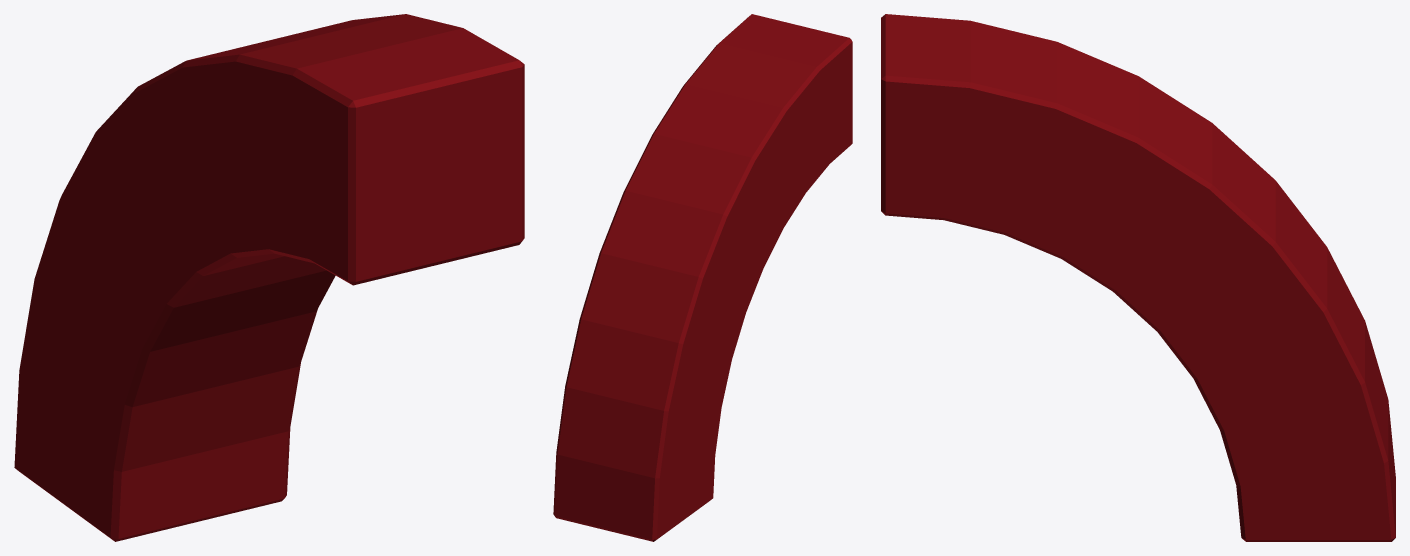
File: SM_MH_01_Wood_Frame_03.fbx
3 views of the same model, side by side, from view 1: azimuth 30°, elevation 25°; view 2: azimuth 150°, elevation 25°; view 3: azimuth 270°, elevation 25° (orthographic). The views are drawn at different scales.
Visible parts, largest first — view 1: SM_MH_01_Wood_Frame_03_LOD0; view 2: SM_MH_01_Wood_Frame_03_LOD0; view 3: SM_MH_01_Wood_Frame_03_LOD0.
Part boxes in pixels (left/top/right/bottom): SM_MH_01_Wood_Frame_03_LOD0: left=14, top=14, right=524, bottom=541; SM_MH_01_Wood_Frame_03_LOD0: left=553, top=14, right=852, bottom=541; SM_MH_01_Wood_Frame_03_LOD0: left=881, top=14, right=1395, bottom=541.
Size of what is drawn, in the model's own units: 15 by 49.96 by 49.96.
